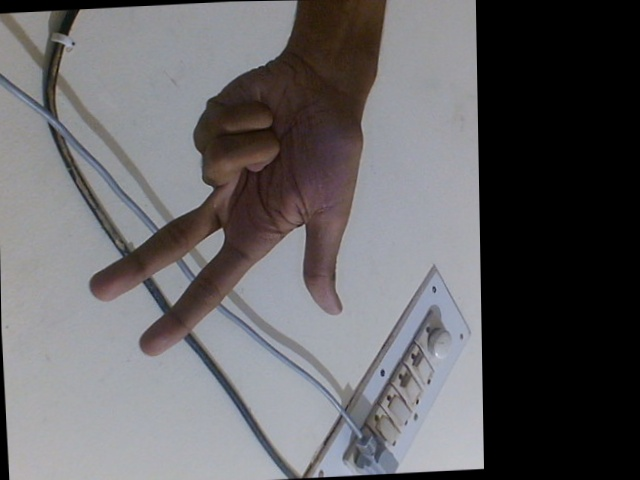hand: (89, 53, 363, 365)
